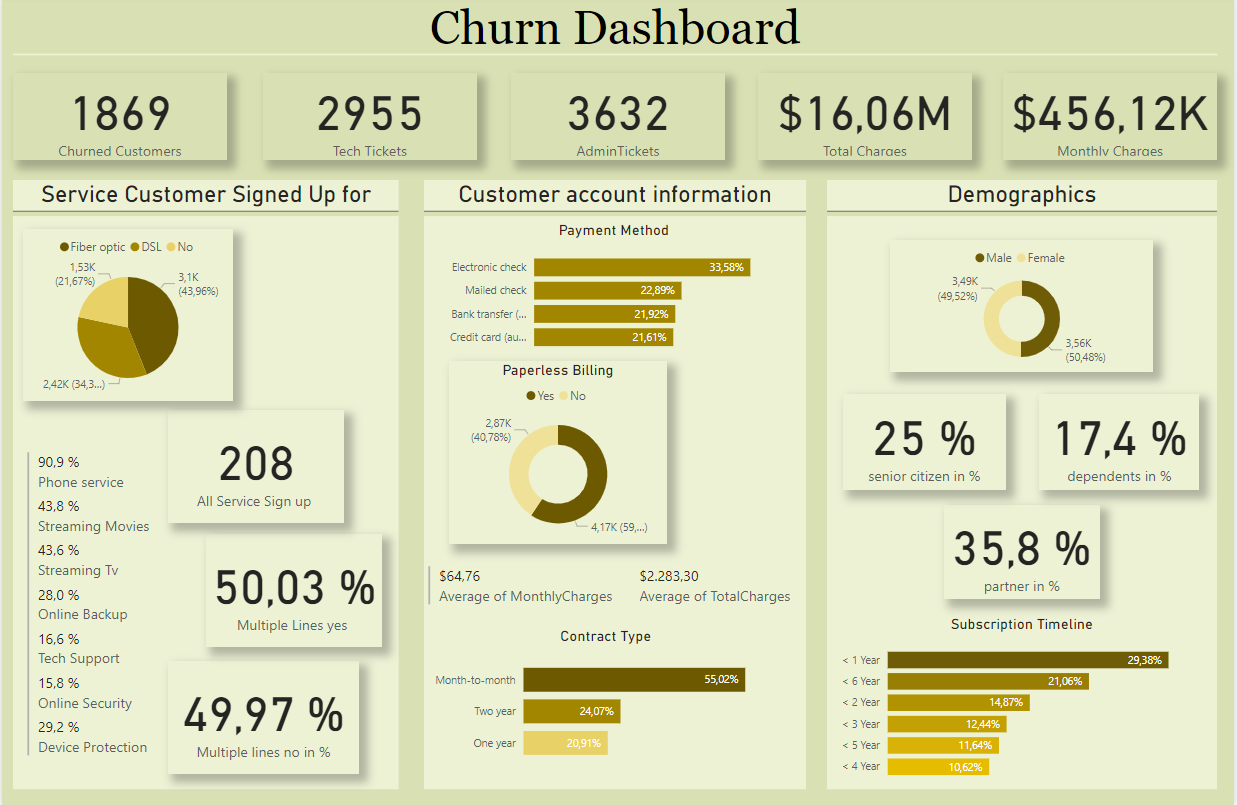

Layout of this report page (visuals, bound fields, positions):
{"tool":"powerbi","page":{"name":"Churn","canvas":[1400,920],"ordinal":0},"visuals":[{"type":"card","fields":{"Values":["01 Churn-Dataset.Churned Customers"]},"box":[12.7,87.4,242.7,98.9],"z":0},{"type":"shape","title":"Service Customer Signed Up for","box":[12.5,209,438.4,691.7],"z":1000},{"type":"shape","title":"Customer account information","box":[479.3,209,433.9,691.7],"z":2000},{"type":"shape","title":"Demographics","box":[937,209,443,691.7],"z":3000},{"type":"pieChart","fields":{"Category":["01 Churn-Dataset.InternetService"],"Y":["CountNonNull(01 Churn-Dataset.InternetService)"]},"box":[24.1,265,238.6,195],"z":4000},{"type":"multiRowCard","fields":{"Values":["Measure.Phone service in %","Measure.Streaming Movies in %","Measure.Streaming Tv in %","Measure.Online Backup in %","Measure.Tech Support in %","Measure.Online Security in %","Measure.Device Protection in %"]},"box":[24.1,513.9,207.6,359.1],"z":5000},{"type":"card","fields":{"Values":["Measure.Multiple Lines yes in %"]},"box":[231.7,611.4,199.6,128.5],"z":6000},{"type":"card","fields":{"Values":["Measure.Multiple lines no in %"]},"box":[188.1,754.8,216.8,128.5],"z":7000},{"type":"card","fields":{"Values":["01 Churn-Dataset.Total Sign up for each service"]},"box":[188.1,470.3,199.6,128.5],"z":8000},{"type":"clusteredBarChart","title":"Payment Method","fields":{"Category":["01 Churn-Dataset.PaymentMethod"],"Y":["CountNonNull(01 Churn-Dataset.PaymentMethod)"]},"box":[488.9,255.4,413,158.8],"z":9000},{"type":"donutChart","title":"Paperless Billing","fields":{"Y":["CountNonNull(01 Churn-Dataset.PaperlessBilling)"],"Category":["01 Churn-Dataset.PaperlessBilling"]},"box":[508.2,414.1,247.8,207.6],"z":10000},{"type":"multiRowCard","fields":{"Values":["Avg(01 Churn-Dataset.MonthlyCharges)","Avg(01 Churn-Dataset.TotalCharges)"]},"box":[479.3,642.9,477,60.2],"z":11000},{"type":"clusteredBarChart","title":"Contract Type","fields":{"Category":["01 Churn-Dataset.Contract"],"Y":["CountNonNull(01 Churn-Dataset.Contract)"]},"box":[479.5,717,413,166.3],"z":12000},{"type":"donutChart","fields":{"Y":["CountNonNull(01 Churn-Dataset.gender)"],"Category":["01 Churn-Dataset.gender"]},"box":[1008.3,277.6,299.4,150.3],"z":13000},{"type":"card","fields":{"Values":["Measure.senior citizen in %"]},"box":[955.6,452,184.7,109],"z":14000},{"type":"card","fields":{"Values":["Measure.partner in %"]},"box":[1070.3,578.2,176.7,106.7],"z":15000},{"type":"card","fields":{"Values":["Measure.dependents in %"]},"box":[1178.1,452,182.4,109],"z":16000},{"type":"clusteredBarChart","title":"Subscription Timeline","fields":{"Category":["01 Churn-Dataset.loyalty"],"Y":["CountNonNull(01 Churn-Dataset.loyalty)"]},"box":[945.2,703.2,426.7,197.3],"z":17000},{"type":"textbox","box":[12.7,0,1367.8,78.2],"z":18000},{"type":"shape","box":[12.7,23,1367.8,87.4],"z":19000},{"type":"card","fields":{"Values":["Sum(01 Churn-Dataset.numTechTickets)"]},"box":[296.8,87.4,242.7,98.9],"z":20000},{"type":"card","fields":{"Values":["Sum(01 Churn-Dataset.numAdminTickets)"]},"box":[578.6,87.4,242.7,98.9],"z":21000},{"type":"card","fields":{"Values":["Sum(01 Churn-Dataset.TotalCharges)"]},"box":[858.2,87.4,242.7,98.9],"z":22000},{"type":"card","fields":{"Values":["Sum(01 Churn-Dataset.MonthlyCharges)"]},"box":[1136.9,87.5,243.1,98.8],"z":23000}]}

Visuals, with their boxes in screenshot pixels (x1, y1, x2, y2), scaled from the page's 1400x920 canvas onto the 1237x805 screenshot:
card - 01 Churn-Dataset.Churned Customers: crop(11, 76, 226, 163)
"Service Customer Signed Up for" shape: crop(11, 183, 398, 788)
"Customer account information" shape: crop(423, 183, 807, 788)
"Demographics" shape: crop(828, 183, 1219, 788)
pieChart - 01 Churn-Dataset.InternetService x CountNonNull(01 Churn-Dataset.InternetService): crop(21, 232, 232, 402)
multiRowCard - Measure.Phone service in % x Measure.Streaming Movies in %: crop(21, 450, 205, 764)
card - Measure.Multiple Lines yes in %: crop(205, 535, 381, 647)
card - Measure.Multiple lines no in %: crop(166, 660, 358, 773)
card - 01 Churn-Dataset.Total Sign up for each service: crop(166, 412, 343, 524)
"Payment Method" clusteredBarChart: crop(432, 223, 797, 362)
"Paperless Billing" donutChart: crop(449, 362, 668, 544)
multiRowCard - Avg(01 Churn-Dataset.MonthlyCharges) x Avg(01 Churn-Dataset.TotalCharges): crop(423, 563, 845, 615)
"Contract Type" clusteredBarChart: crop(424, 627, 789, 773)
donutChart - CountNonNull(01 Churn-Dataset.gender) x 01 Churn-Dataset.gender: crop(891, 243, 1155, 374)
card - Measure.senior citizen in %: crop(844, 396, 1008, 491)
card - Measure.partner in %: crop(946, 506, 1102, 599)
card - Measure.dependents in %: crop(1041, 396, 1202, 491)
"Subscription Timeline" clusteredBarChart: crop(835, 615, 1212, 788)
textbox: crop(11, 0, 1220, 68)
shape: crop(11, 20, 1220, 97)
card - Sum(01 Churn-Dataset.numTechTickets): crop(262, 76, 477, 163)
card - Sum(01 Churn-Dataset.numAdminTickets): crop(511, 76, 726, 163)
card - Sum(01 Churn-Dataset.TotalCharges): crop(758, 76, 973, 163)
card - Sum(01 Churn-Dataset.MonthlyCharges): crop(1005, 77, 1219, 163)
